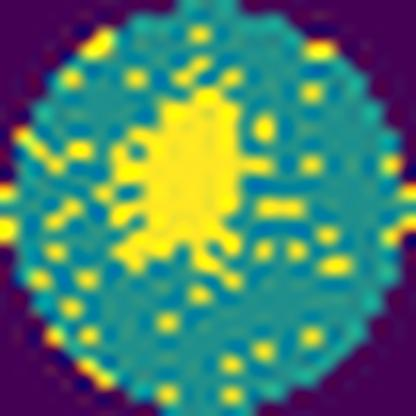Center: (106, 84, 242, 280)
